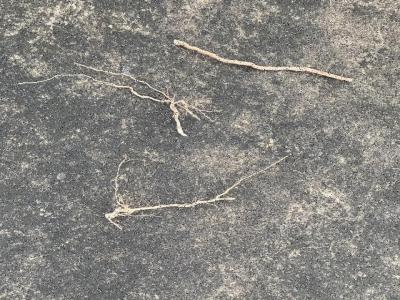Root: (19, 62, 218, 136), (105, 154, 287, 228), (173, 40, 352, 82)
